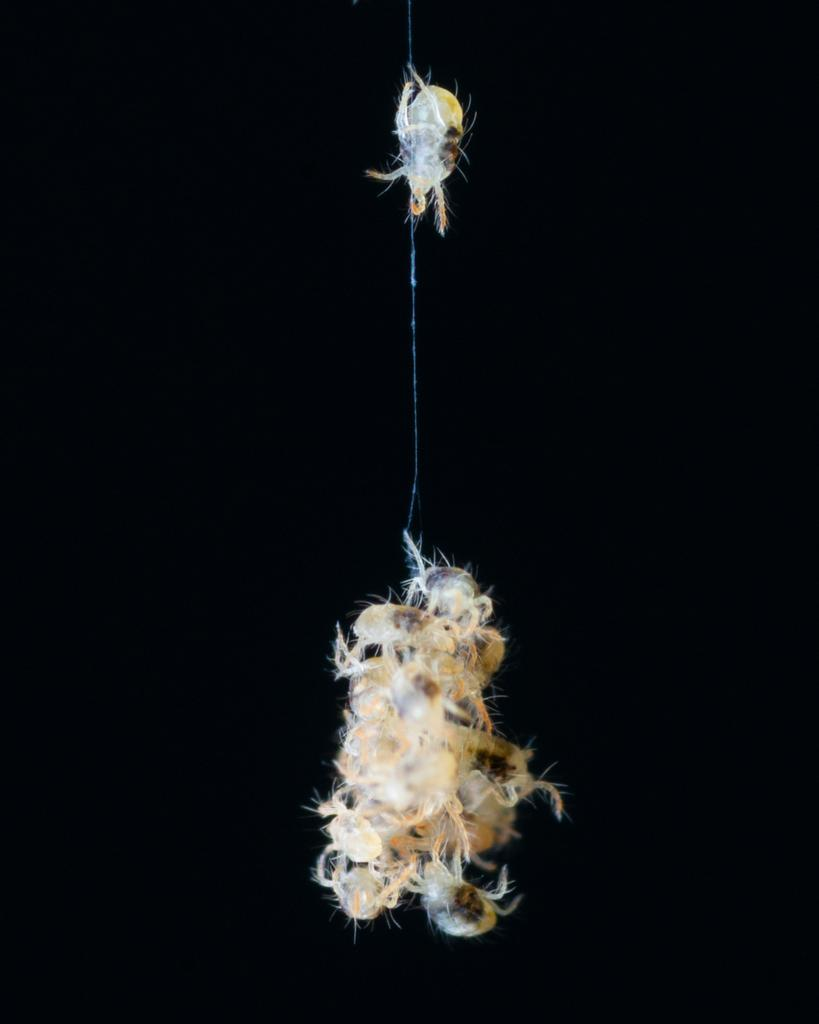tiny_pests: (258, 511, 596, 993), (340, 36, 510, 250)
